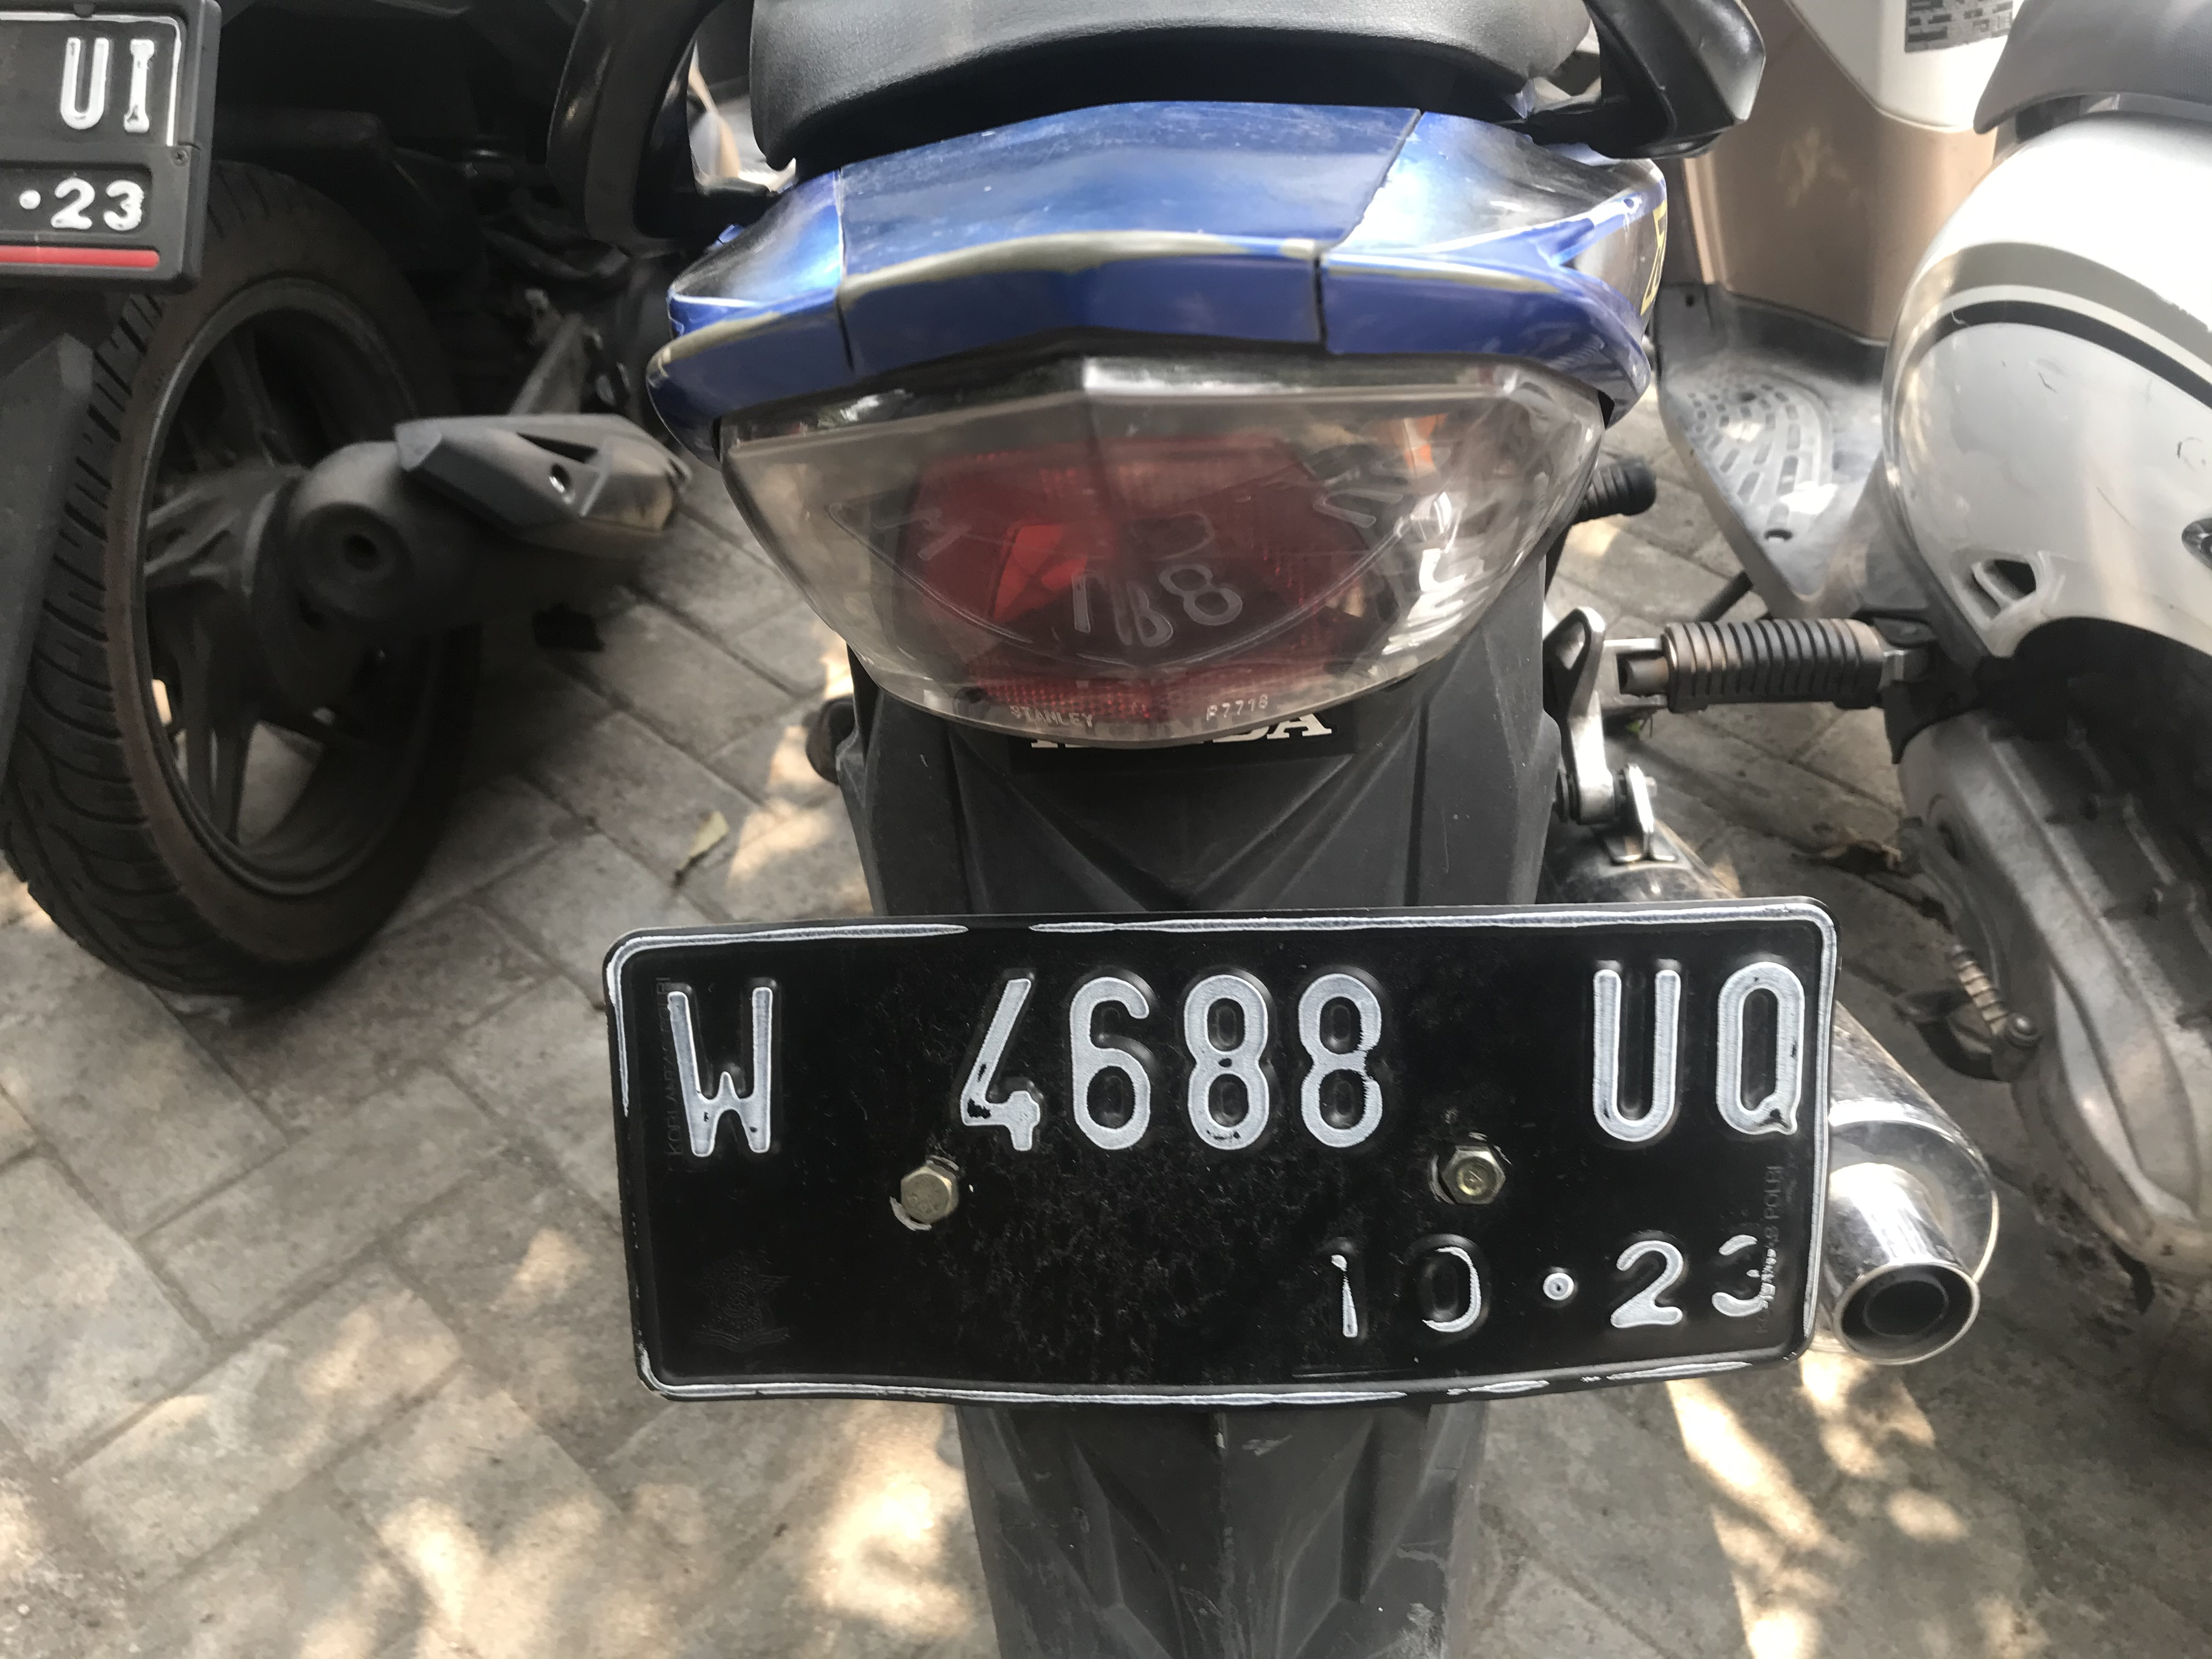plate: (603, 930, 1825, 1372)
